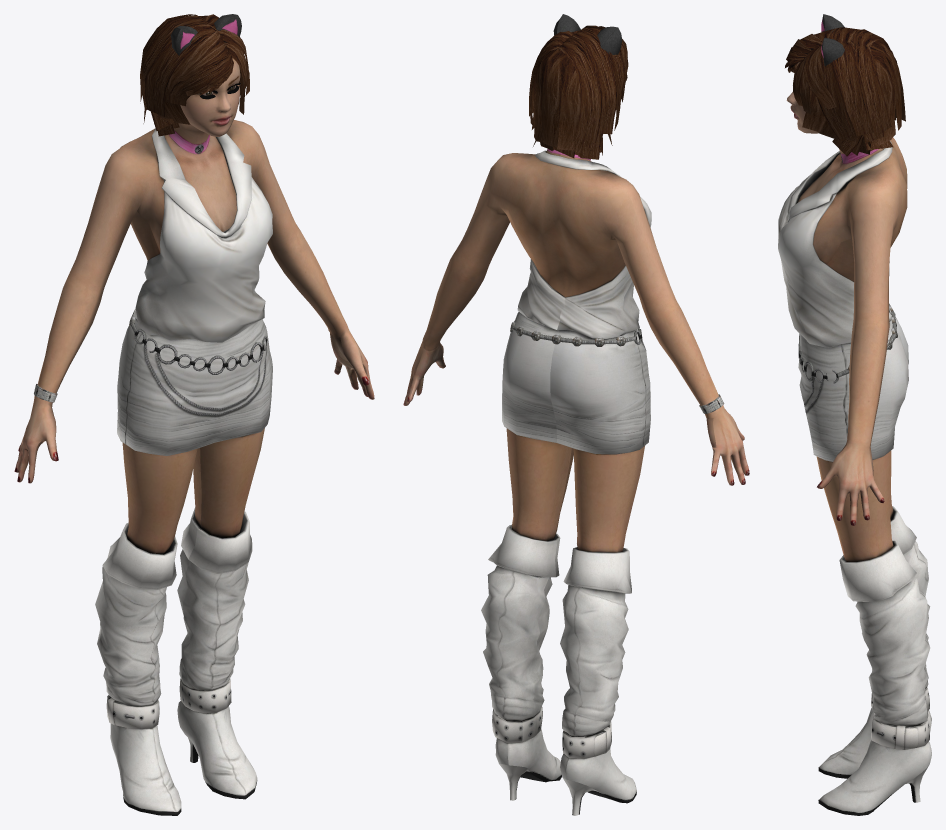
Rendered from asiangirl.obj.
3 views of the same model, side by side, from view 1: azimuth 30°, elevation 25°; view 2: azimuth 150°, elevation 25°; view 3: azimuth 270°, elevation 25° (orthographic). The views are drawn at different scales.
Visible parts, largest first — view 1: Asian_Girl; view 2: Asian_Girl; view 3: Asian_Girl.
Part boxes in pixels (bbox=[...]): Asian_Girl: bbox=[14, 14, 374, 815]; Asian_Girl: bbox=[403, 14, 749, 815]; Asian_Girl: bbox=[778, 14, 931, 815].
Bounding box in the file's own units: 37.12 × 78.86 × 14.48.
